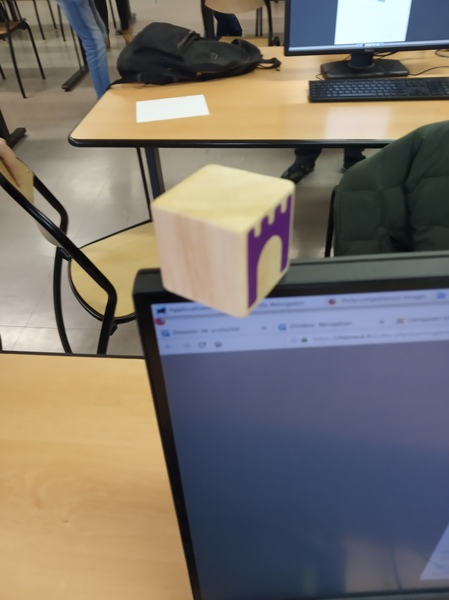violet: (155, 177, 298, 306)
